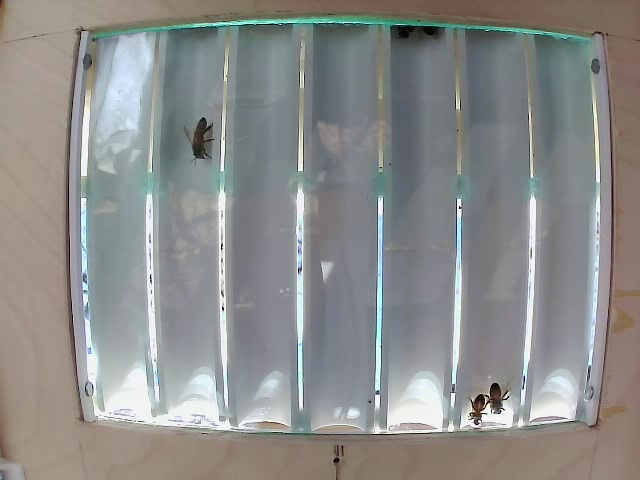bee: (177, 103, 231, 174), (473, 369, 523, 425)
